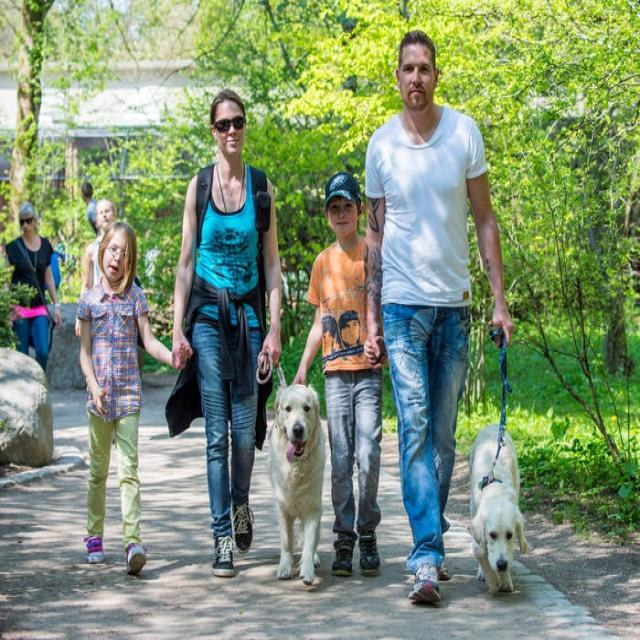body: (360, 27, 516, 608), (168, 86, 286, 581), (73, 218, 190, 581), (288, 168, 389, 580), (1, 201, 63, 375), (72, 196, 120, 337), (40, 220, 73, 308), (79, 178, 103, 236)
